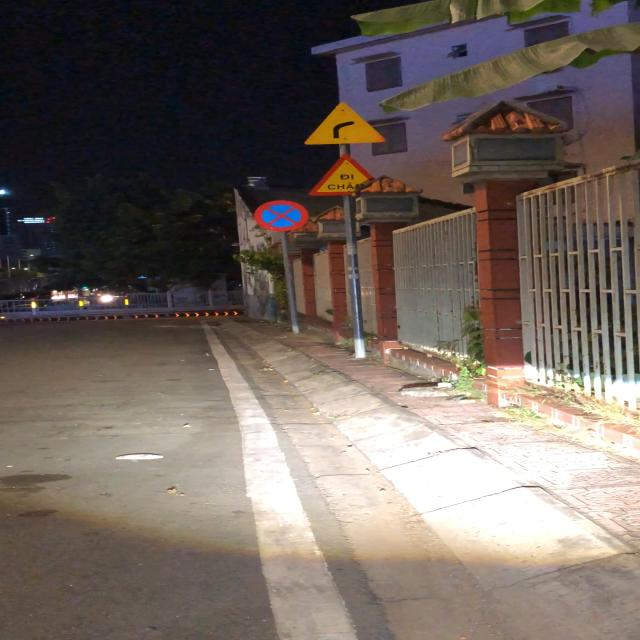Bien bao cam dung xe va do xe: (254, 200, 310, 232)
Bien bao cho ngoat nguy hiem: (300, 100, 393, 146)
Bien bao di cham: (304, 152, 384, 198)
